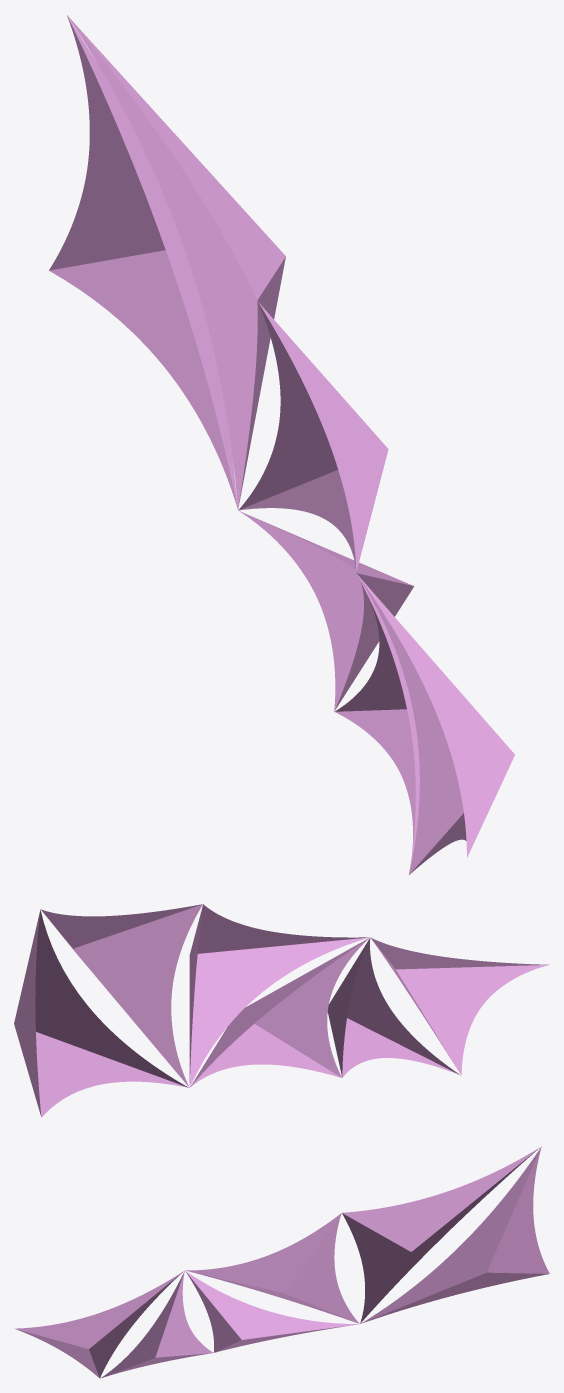
Rendered from TYPE46-3.glb.
3 views of the same model, one above another, from view 1: azimuth 30°, elevation 25°; view 2: azimuth 150°, elevation 25°; view 3: azimuth 270°, elevation 25° (orthographic). The views are drawn at different scales.
Parts seen in each view (by area): view 1: TYPE46-3 (×16); view 2: TYPE46-3 (×17); view 3: TYPE46-3 (×18).
Part boxes in pixels (box(x1,y1,x2,y2)): TYPE46-3 (×16): box(49, 15, 514, 874); TYPE46-3 (×17): box(14, 904, 548, 1117); TYPE46-3 (×18): box(15, 1147, 549, 1378).
Size of the model in its own units: 3.44 by 7.79 by 14.73.
